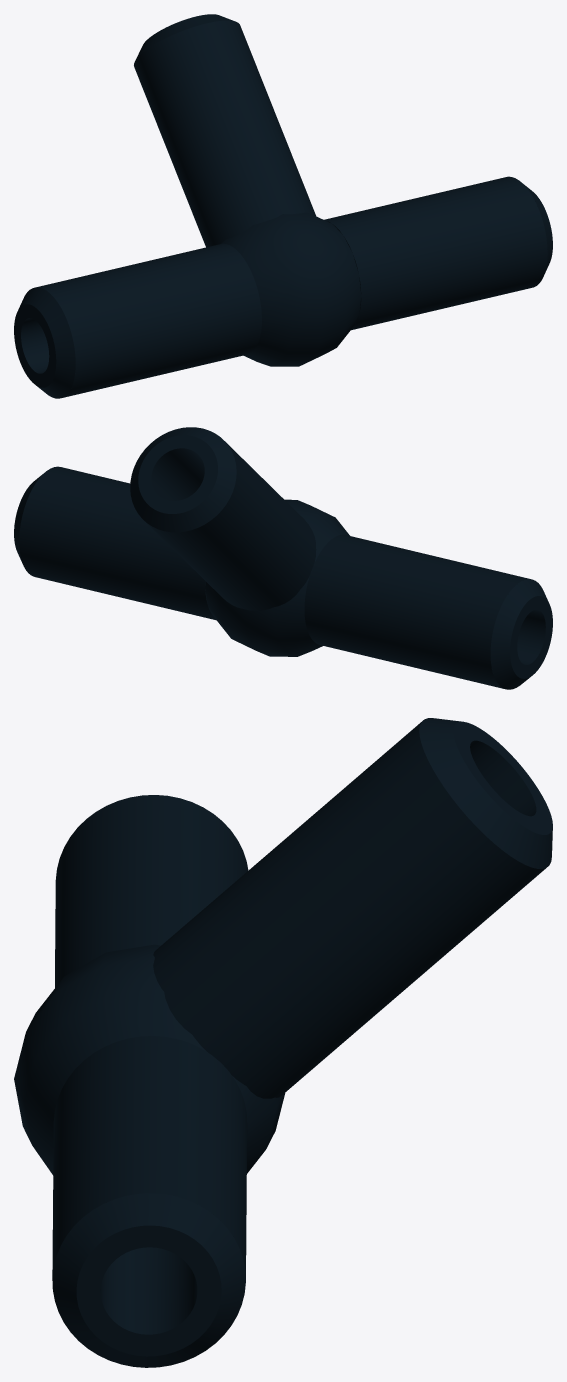
Rendered from Control_Cockpit.fbx.
The picture shows the model from 3 angles, top to bottom: view 1: azimuth 30°, elevation 25°; view 2: azimuth 150°, elevation 25°; view 3: azimuth 270°, elevation 25°; orthographic projection. The views are drawn at different scales.
Parts seen in each view (by area): view 1: Object.001; view 2: Object.001; view 3: Object.001.
Part boxes in pixels (<box>): Object.001: <box>14,14,552,398</box>; Object.001: <box>14,427,552,689</box>; Object.001: <box>14,718,552,1367</box>.
Bounding box in the file's own units: 76.17 × 40.92 × 41.97.
